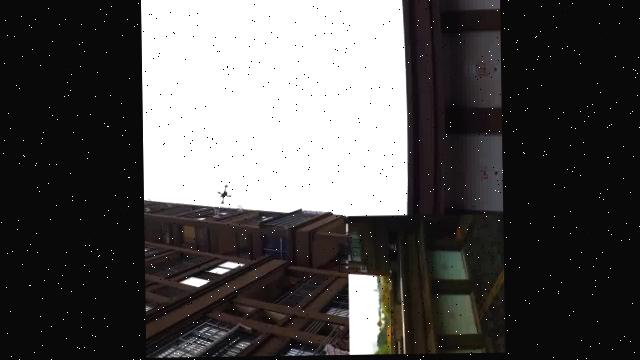drone: (205, 163, 240, 224)
